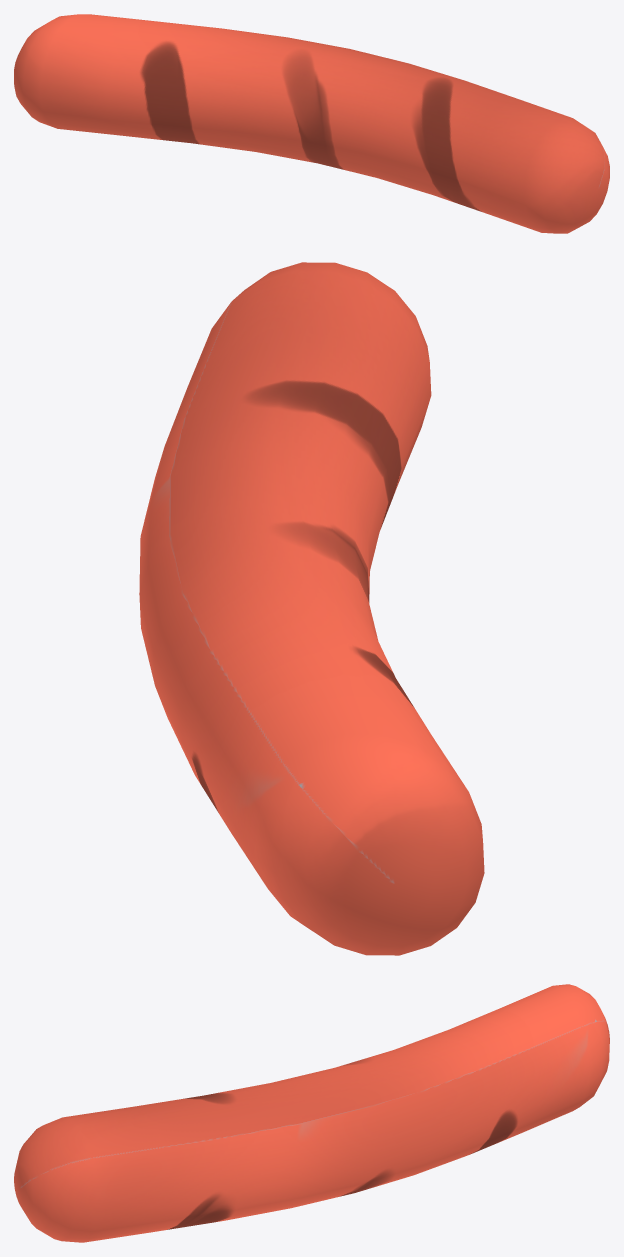
3 views of the same model, one above another, from view 1: azimuth 30°, elevation 25°; view 2: azimuth 150°, elevation 25°; view 3: azimuth 270°, elevation 25° (orthographic). The views are drawn at different scales.
Parts seen in each view (by area): view 1: HotDog; view 2: HotDog; view 3: HotDog.
Boxes of the visible parts, <box> form: HotDog: <box>14,14,609,233</box>; HotDog: <box>139,262,484,955</box>; HotDog: <box>14,984,609,1242</box>.
Bounding box in the file's own units: 1.84 × 0.535 × 2.48.
1 material, 1 textured.
